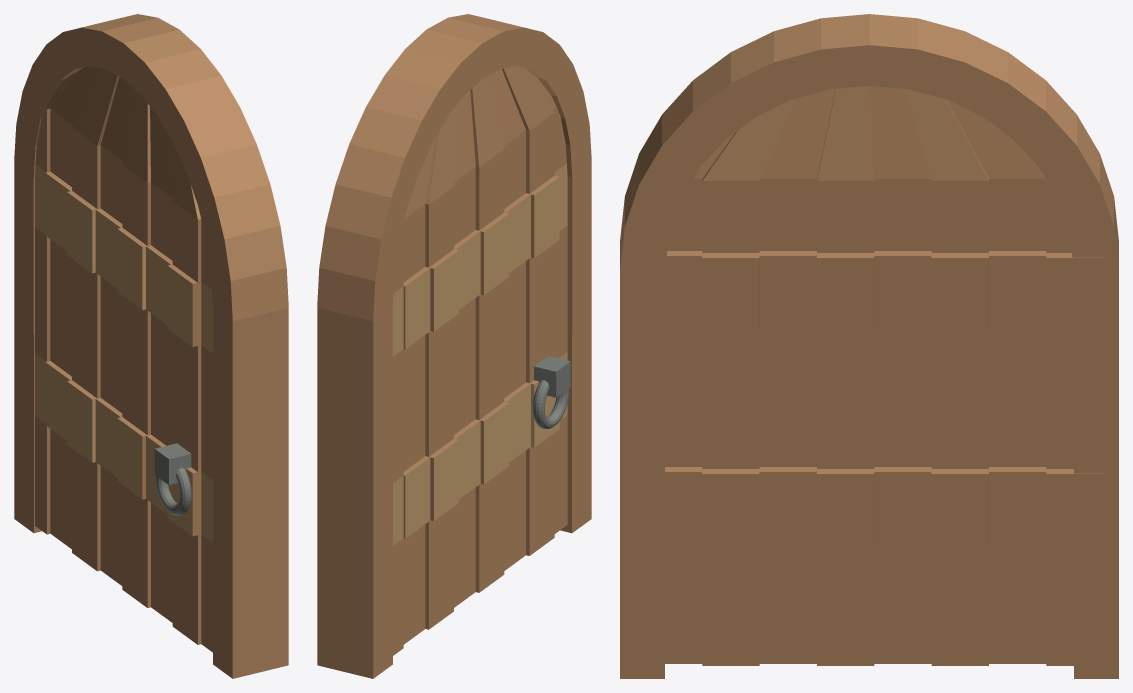
File: Door.fbx
3 views of the same model, side by side, from view 1: azimuth 30°, elevation 25°; view 2: azimuth 150°, elevation 25°; view 3: azimuth 270°, elevation 25° (orthographic). The views are drawn at different scales.
Visible parts, largest first — view 1: Cube, Cylinder, Torus; view 2: Cube, Cylinder, Torus; view 3: Cube, Cylinder.
Part boxes in pixels (<box>): Cube: <box>35,66,213,652</box>; Cylinder: <box>14,14,288,678</box>; Torus: <box>154,443,191,515</box>; Cube: <box>392,66,567,655</box>; Cylinder: <box>317,14,591,678</box>; Torus: <box>532,356,570,428</box>; Cube: <box>665,86,1103,665</box>; Cylinder: <box>620,14,1118,678</box>.
Size of the model in its own units: 41.26 by 280 by 200.
